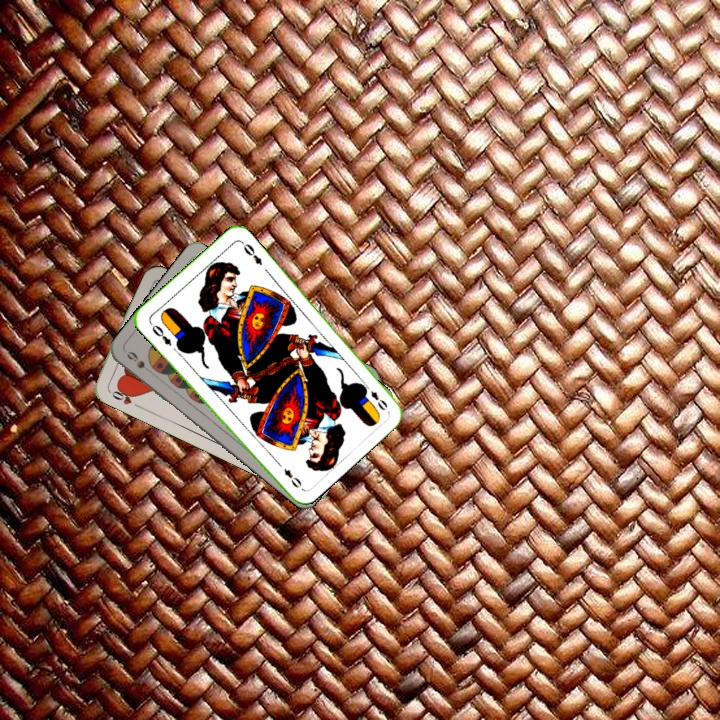EO: (359, 379, 390, 413), (146, 318, 174, 349)
HO: (104, 383, 142, 410)
S9: (123, 347, 157, 377)
